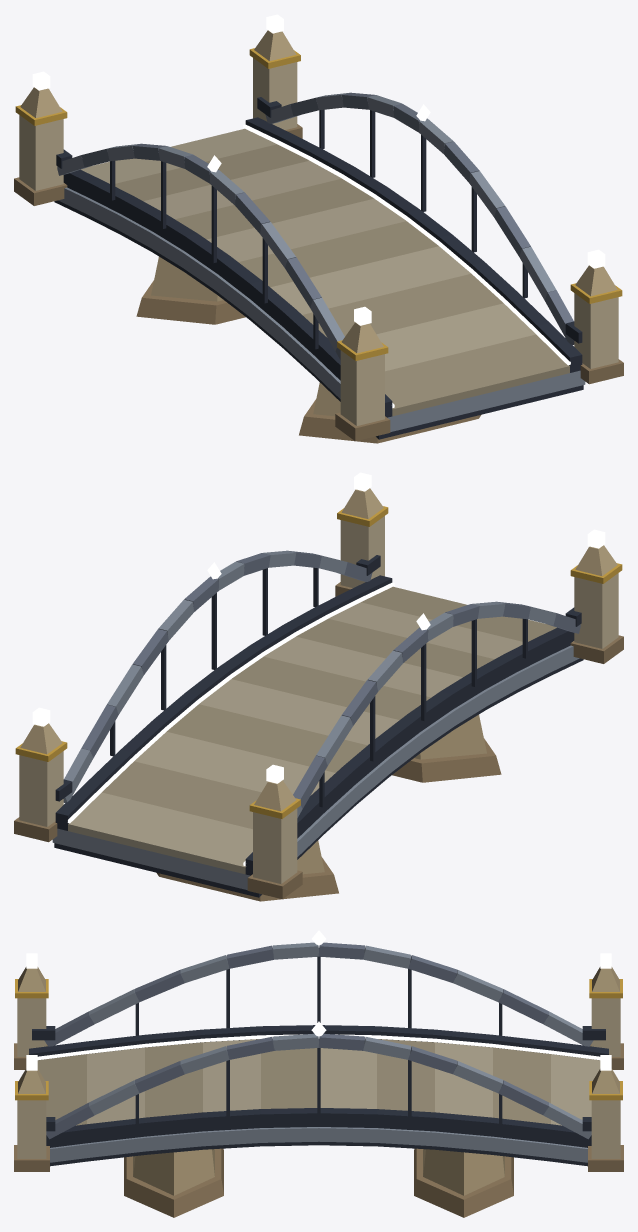
File: bridge_span.glb
3 views of the same model, one above another, from view 1: azimuth 30°, elevation 25°; view 2: azimuth 150°, elevation 25°; view 3: azimuth 270°, elevation 25° (orthographic). The views are drawn at different scales.
Parts seen in each view (by area): view 1: body, glow; view 2: body, glow; view 3: body, glow.
Part boxes in pixels (x1,y1,x2,y2): body: [14, 30, 623, 443]; glow: [32, 14, 605, 407]; body: [14, 488, 623, 901]; glow: [32, 472, 605, 865]; body: [14, 942, 623, 1217]; glow: [26, 930, 611, 1070].
Size of the model in its own units: 4.78 by 3.77 by 10.52.
